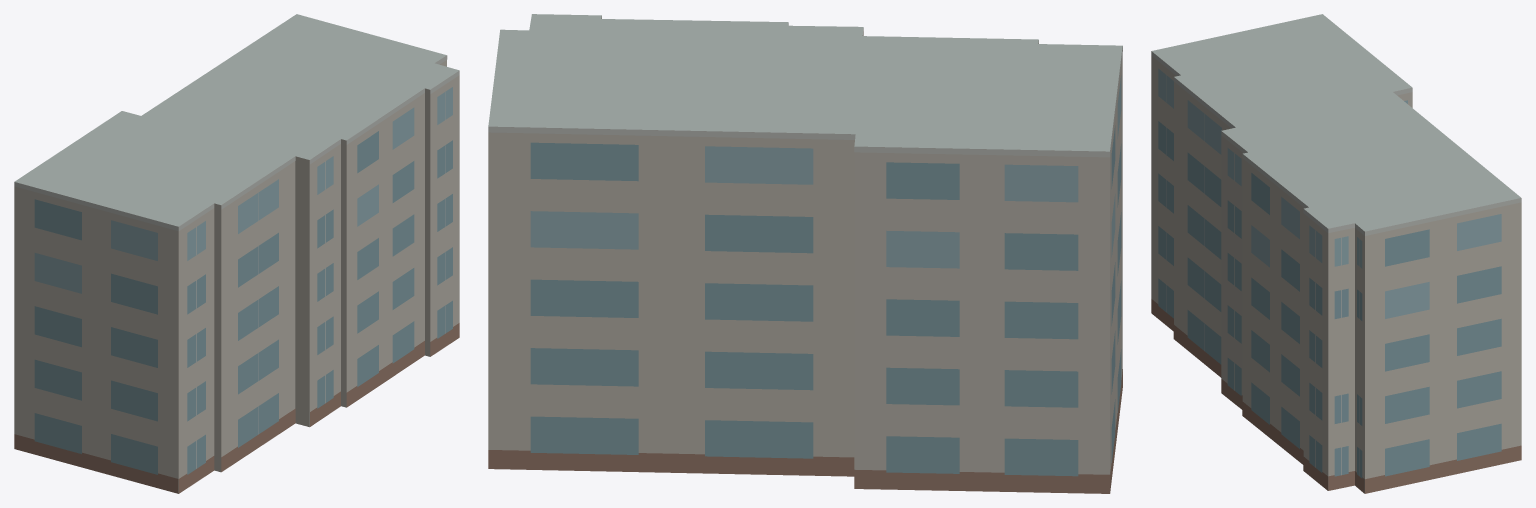
Rendered from survey-upis-32911773.glb.
The picture shows the model from 3 angles, left to right: view 1: azimuth 30°, elevation 25°; view 2: azimuth 150°, elevation 25°; view 3: azimuth 270°, elevation 25°; orthographic projection. The views are drawn at different scales.
Visible parts, largest first — view 1: survey-upis-32911773.tmp; view 2: survey-upis-32911773.tmp; view 3: survey-upis-32911773.tmp.
Boxes of the visible parts, left/top/right/bottom form: survey-upis-32911773.tmp: left=14, top=14, right=459, bottom=493; survey-upis-32911773.tmp: left=488, top=14, right=1122, bottom=493; survey-upis-32911773.tmp: left=1151, top=14, right=1521, bottom=493.
Bounding box in the file's own units: 25.46 × 14.3 × 18.3.
